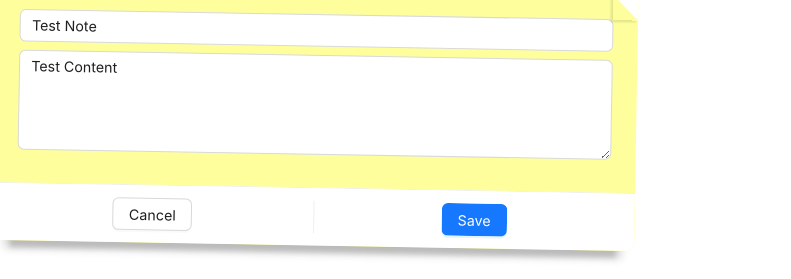
UnsavedNote › shows validation error for invalid title characters
Replace the text in the field showing "Test Note" with "<script>alert(\"xss\")</script>": (317, 30) x1=20 y1=9 x2=614 y2=52
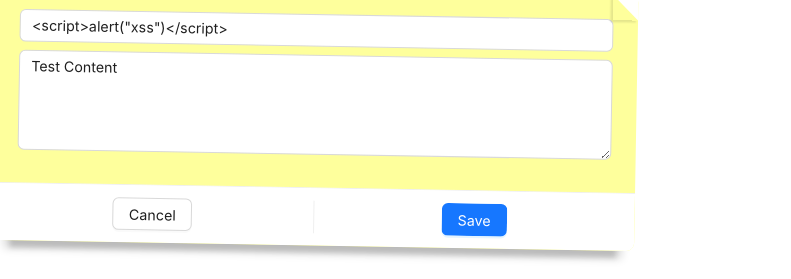
Click the button "Save": (474, 220) x1=441 y1=203 x2=507 y2=237
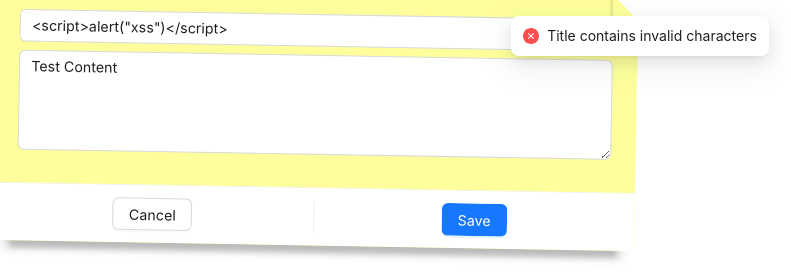
Check: the text "Title contains invalid characters" is shown, box x1=547 y1=25 x2=757 y2=47
